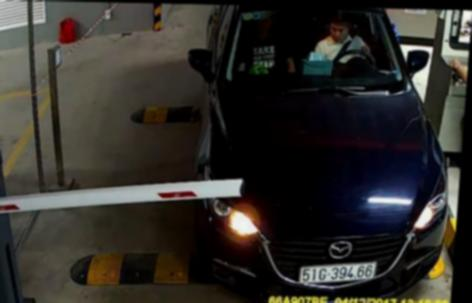License_Plate: (295, 261, 378, 285)
